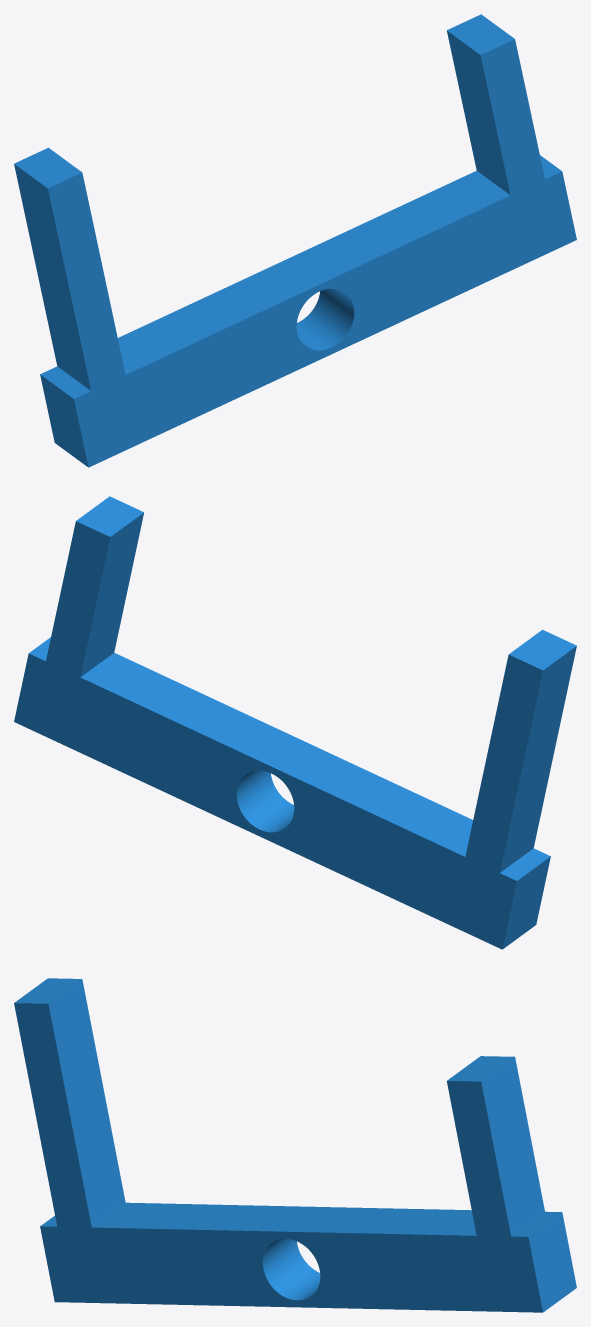
Rendered from mag_balancim.glb.
The picture shows the model from 3 angles, top to bottom: view 1: azimuth 30°, elevation 25°; view 2: azimuth 150°, elevation 25°; view 3: azimuth 330°, elevation 25°; orthographic projection.
Visible parts, largest first — view 1: mag_balancim; view 2: mag_balancim; view 3: mag_balancim.
Boxes of the visible parts, x1,y1,x2,y2 form: mag_balancim: (14, 14, 576, 467); mag_balancim: (14, 496, 576, 949); mag_balancim: (14, 978, 576, 1312).
Bounding box in the file's own units: 45.04 × 26.4 × 5.
